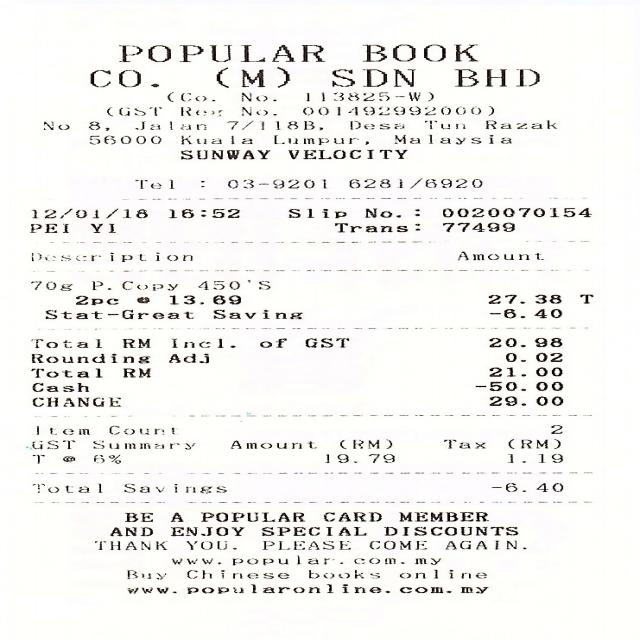text: (117, 44, 324, 61), (186, 584, 487, 593), (360, 44, 476, 61), (216, 66, 288, 87), (442, 207, 592, 217), (30, 252, 192, 261), (453, 69, 538, 86), (330, 69, 414, 86), (347, 178, 483, 188), (44, 309, 191, 318), (393, 134, 510, 144), (30, 208, 146, 218), (88, 70, 156, 86), (382, 526, 516, 534), (30, 353, 149, 362), (124, 483, 227, 493), (304, 92, 432, 100), (226, 178, 325, 188), (225, 120, 321, 130), (286, 150, 405, 158), (90, 440, 194, 449), (260, 526, 364, 535), (302, 106, 404, 115), (200, 512, 302, 521), (212, 308, 302, 318), (186, 569, 286, 578), (456, 250, 542, 260), (272, 135, 367, 144), (30, 397, 119, 406), (398, 512, 487, 521), (398, 569, 485, 578), (333, 222, 419, 231), (230, 439, 315, 448), (444, 540, 524, 549), (89, 134, 160, 144), (180, 150, 268, 158), (180, 134, 250, 144), (168, 208, 238, 218), (442, 222, 512, 232), (30, 338, 100, 348), (262, 541, 349, 549), (170, 526, 243, 535), (92, 541, 165, 550), (196, 280, 268, 289), (483, 119, 554, 128), (167, 295, 238, 304), (30, 368, 101, 377), (30, 483, 100, 492), (308, 569, 378, 578), (108, 425, 174, 434), (323, 511, 380, 521), (170, 338, 233, 347), (422, 106, 492, 114), (134, 121, 204, 129), (324, 454, 392, 462), (286, 208, 345, 217), (29, 382, 86, 391), (368, 540, 424, 549), (120, 281, 175, 290), (105, 106, 159, 115), (364, 208, 418, 217), (506, 439, 559, 448), (166, 91, 213, 101), (338, 439, 390, 448), (474, 382, 524, 391), (24, 439, 74, 448), (348, 121, 403, 129), (296, 554, 340, 564), (73, 295, 116, 305), (36, 426, 88, 434), (303, 338, 347, 347), (186, 541, 235, 549), (230, 558, 286, 565), (487, 366, 525, 376), (441, 439, 483, 448), (486, 294, 523, 304), (487, 308, 524, 318), (29, 281, 70, 290), (180, 106, 220, 115), (488, 337, 524, 347), (134, 179, 172, 188), (28, 223, 66, 232), (168, 353, 206, 362), (422, 120, 464, 128), (108, 527, 150, 535), (488, 396, 524, 405), (240, 106, 275, 115), (125, 570, 164, 578), (489, 482, 523, 491), (352, 558, 402, 564), (170, 558, 219, 564), (125, 586, 174, 592), (240, 92, 275, 100), (534, 366, 562, 376), (533, 308, 560, 318), (123, 512, 150, 522), (258, 338, 286, 347), (121, 368, 148, 377), (122, 338, 148, 347), (534, 352, 560, 361), (534, 482, 560, 491), (92, 455, 120, 463), (89, 223, 113, 232), (536, 294, 560, 303), (536, 338, 560, 347), (536, 381, 560, 390), (536, 396, 560, 405), (538, 453, 562, 462), (42, 121, 68, 129), (86, 121, 108, 130), (504, 352, 524, 361), (506, 453, 526, 462), (90, 281, 109, 289), (413, 558, 438, 564), (580, 294, 592, 304), (548, 424, 560, 434), (30, 454, 42, 463), (170, 512, 180, 521), (136, 296, 148, 302), (62, 455, 74, 461)
